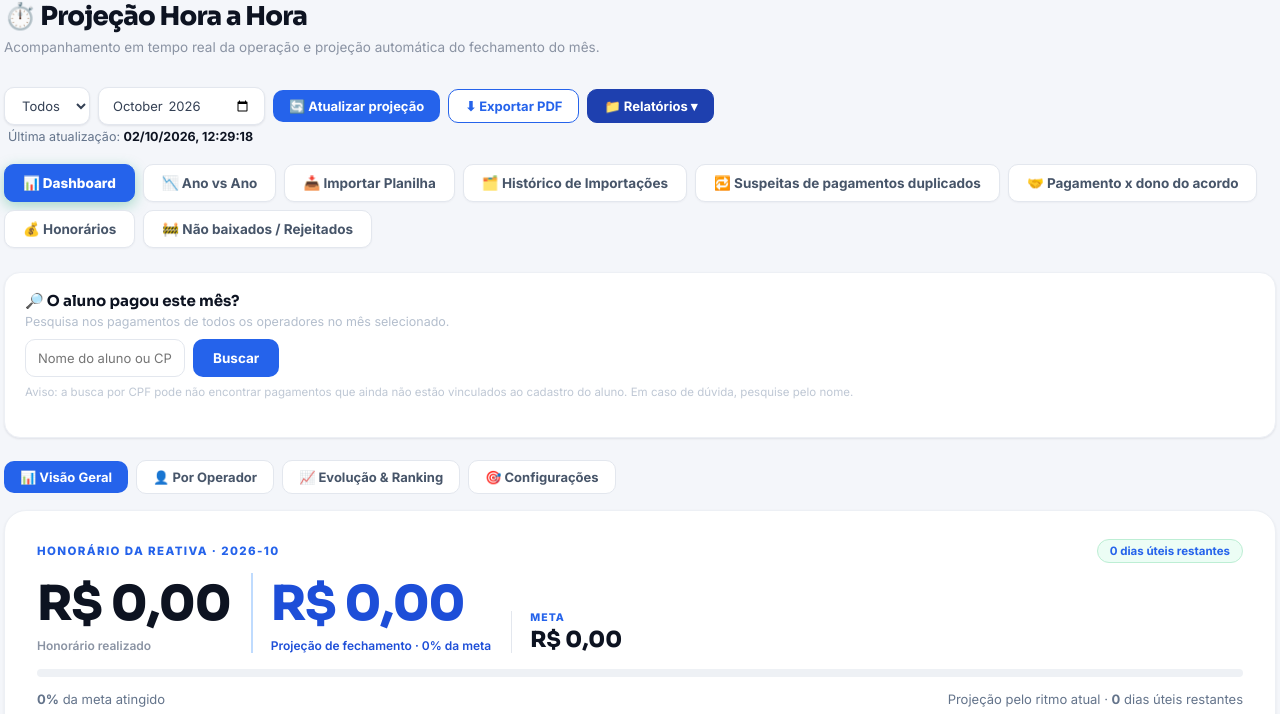
Test: Configurações > meta: bordas › falha na leitura mostra erro e não sobrescreve o formulário
The width and height of the screenshot is (1280, 714).
Click the button "🎯 Configurações" at {"x": 542, "y": 477}, box 468,460 -> 616,494
(page scrolled)
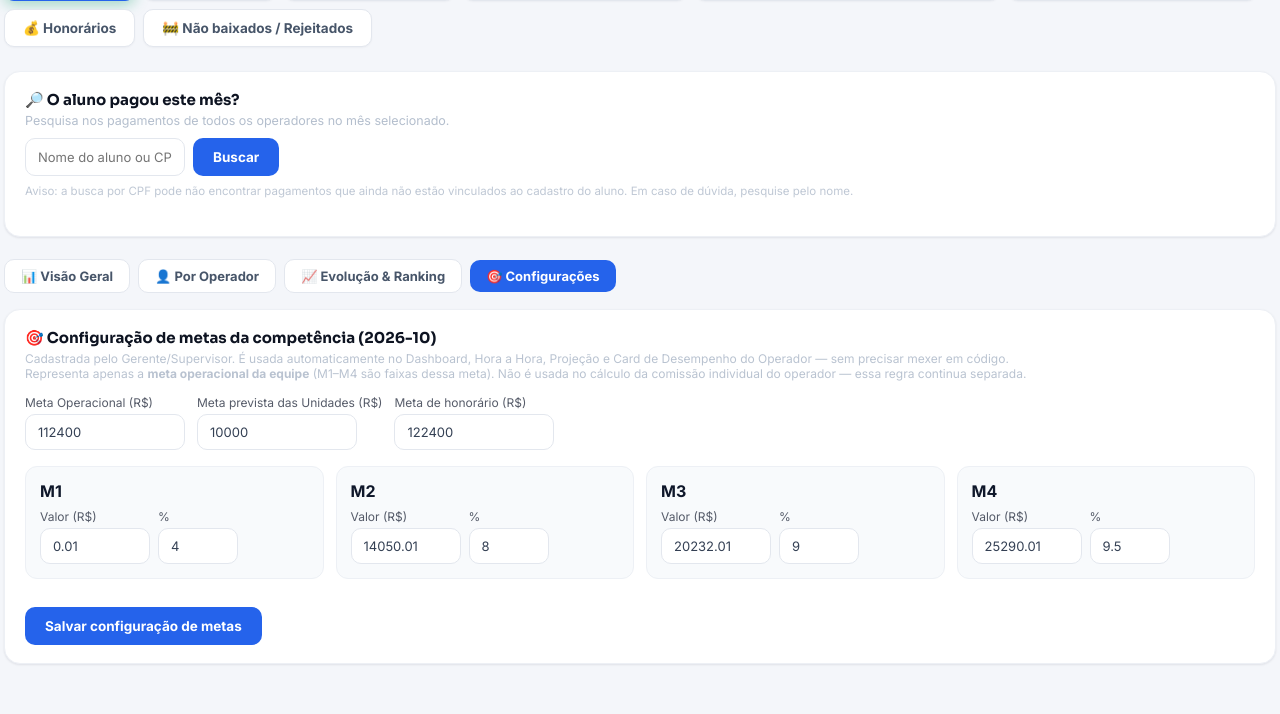
Click the button "Salvar configuração de metas" at {"x": 143, "y": 626}, box 25,607 -> 262,645
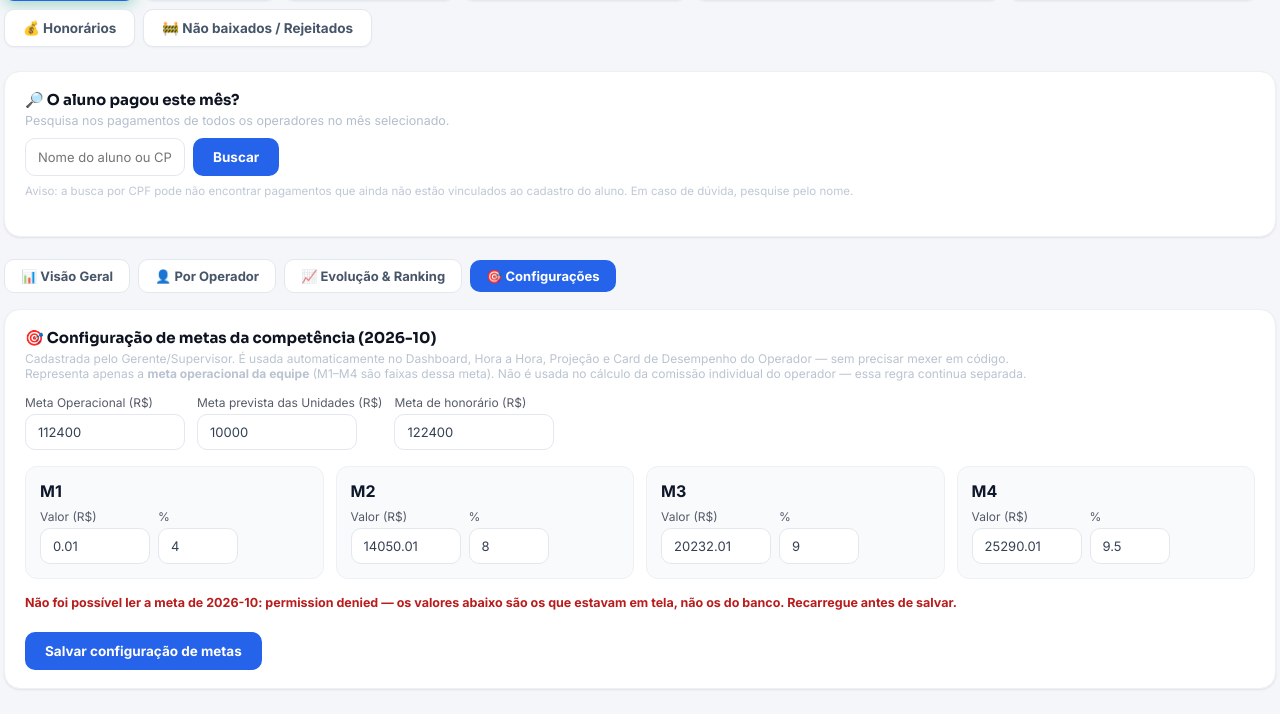
Check: the text "Não foi possível ler a meta" is shown, box 25,595 -> 378,610
